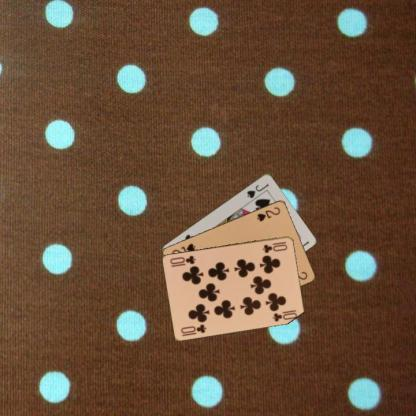10c: (260, 239, 289, 254), (179, 321, 208, 335)
2s: (254, 204, 282, 222)
Js: (244, 181, 270, 199)
